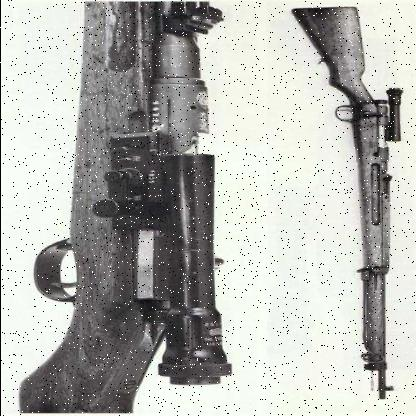rifle: (1, 0, 242, 412), (282, 7, 407, 408)
